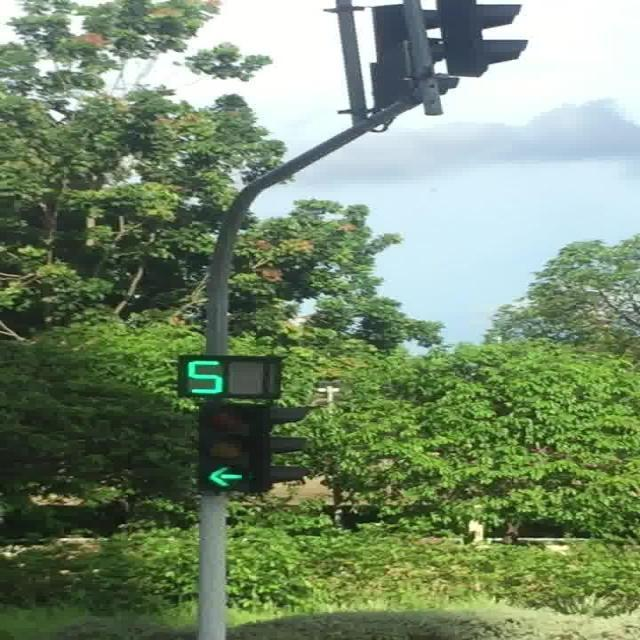green_light: (200, 402, 256, 490)
